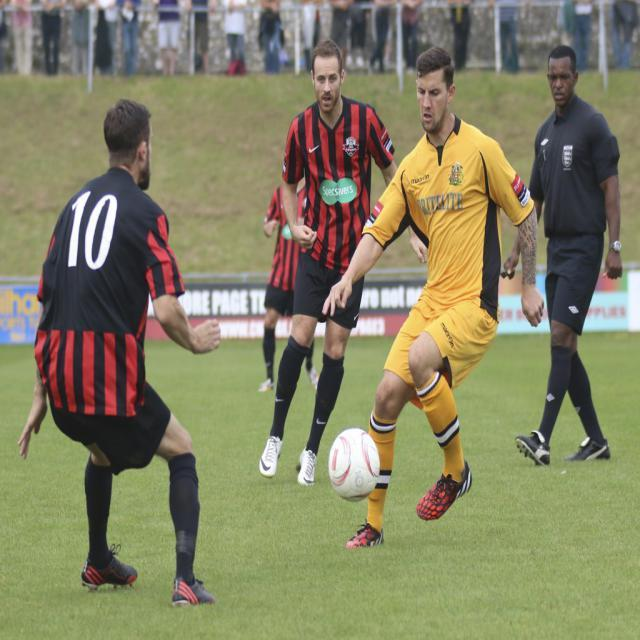football: (316, 426, 393, 509)
